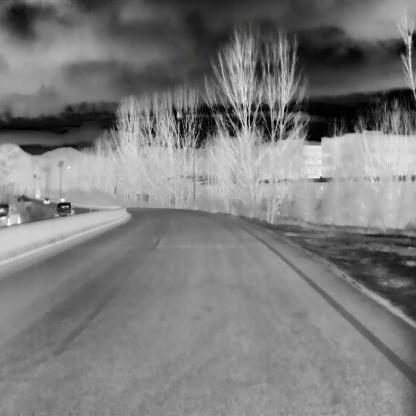car: (0, 201, 21, 226), (53, 202, 74, 216), (43, 196, 50, 203), (57, 197, 64, 202)
